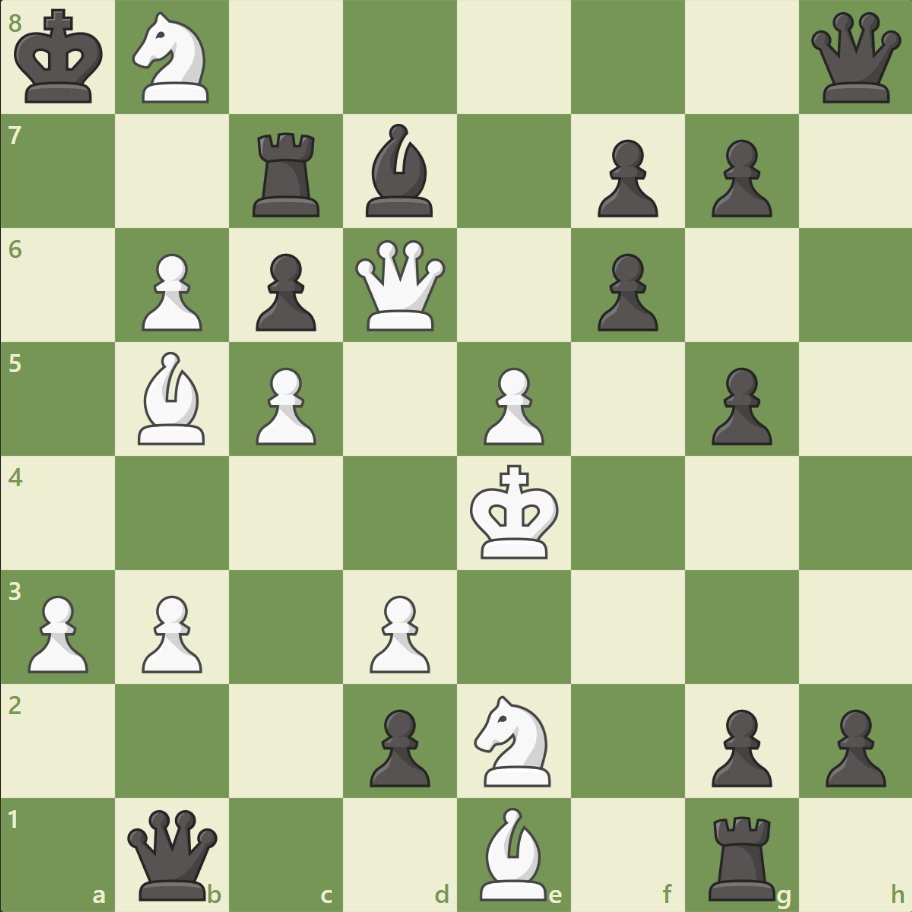B: (471, 801, 555, 904), (131, 347, 215, 449)
K: (465, 458, 565, 566)
N: (124, 7, 222, 110), (465, 688, 562, 791)
P: (133, 246, 208, 337), (247, 359, 322, 450), (474, 359, 549, 450), (20, 586, 95, 677), (133, 586, 208, 677), (361, 586, 435, 677)
Q: (351, 236, 450, 335)
b: (358, 120, 442, 222)
k: (11, 4, 111, 112)
p: (701, 132, 776, 223), (247, 246, 322, 337), (701, 359, 776, 450), (701, 700, 776, 791), (588, 132, 662, 223), (588, 246, 662, 337), (361, 700, 435, 791), (815, 700, 889, 791)
q: (805, 9, 904, 108), (124, 804, 223, 903)
r: (700, 806, 783, 904), (246, 125, 329, 222)
